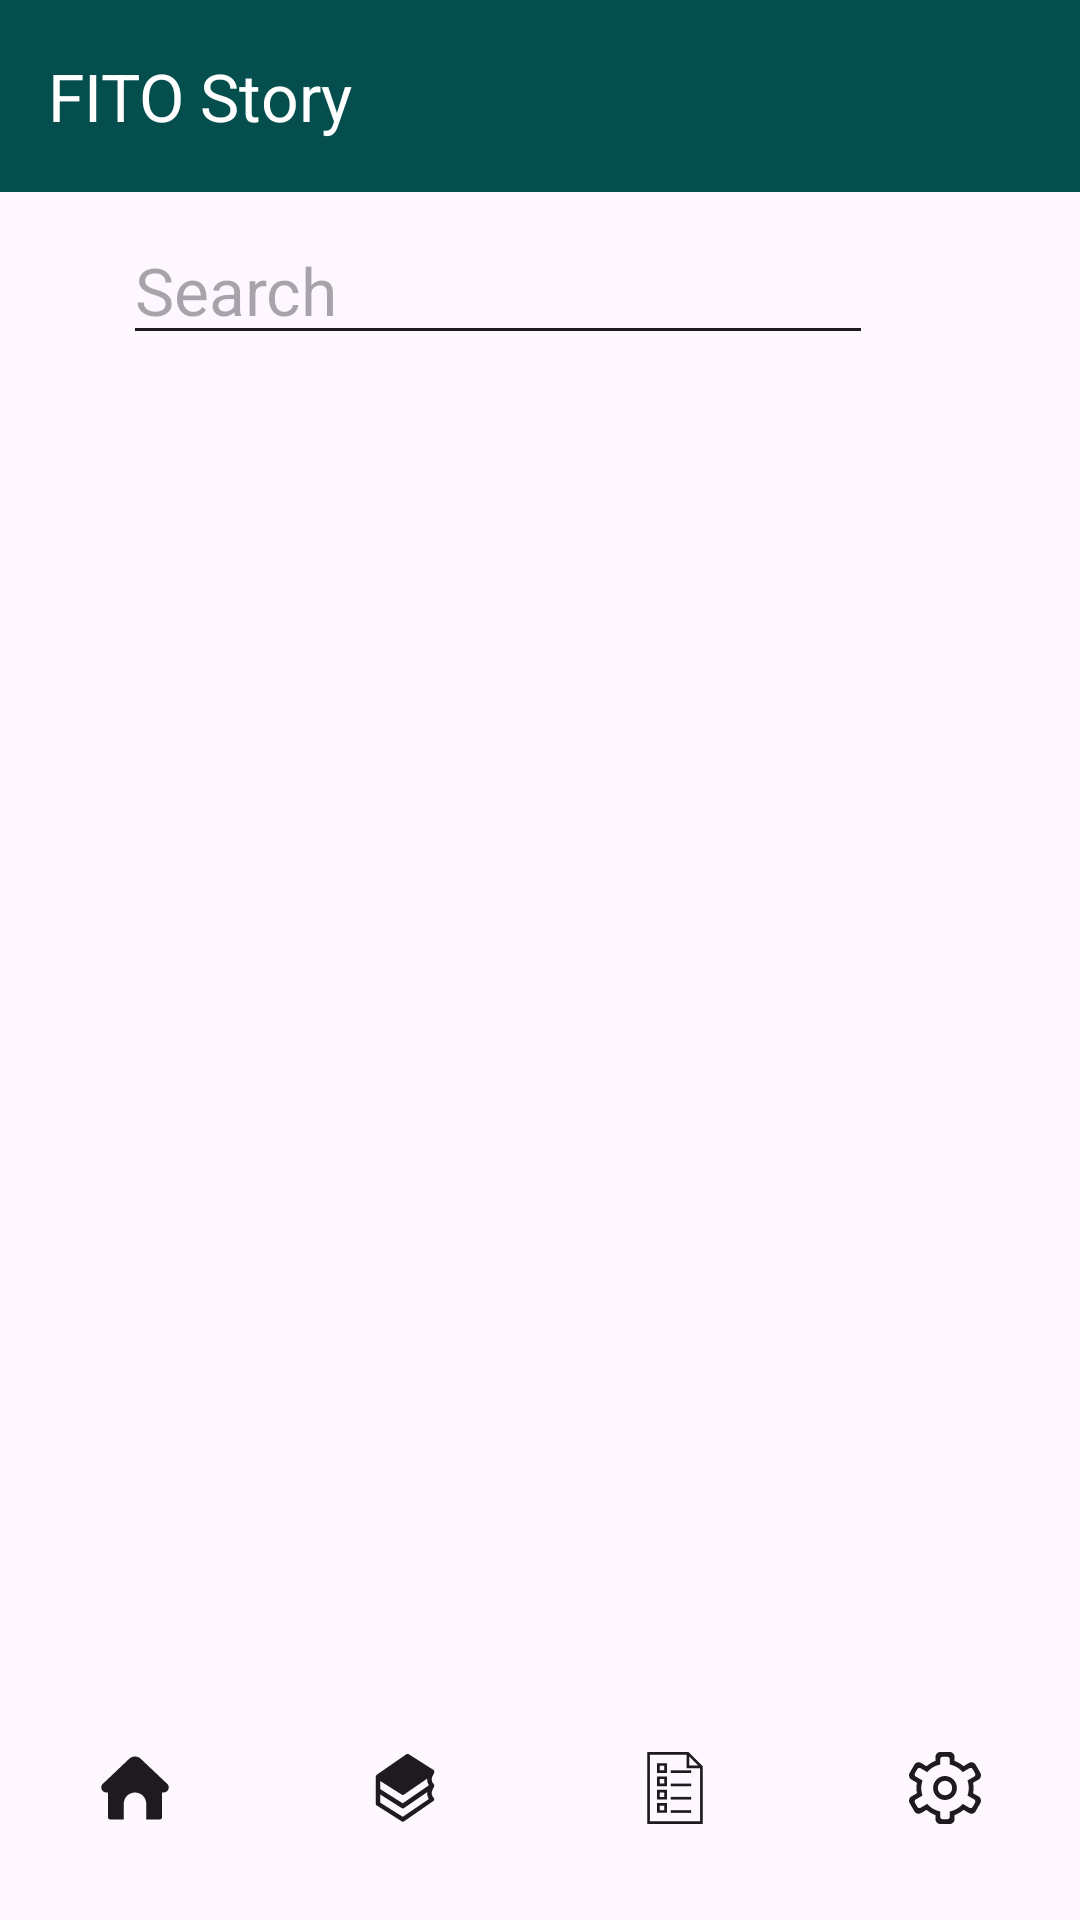

Where to tap for icons on this 1080 × 1920 app screen, as point (x, y):
home: point (135, 1788)
library: point (405, 1788)
quiz: point (675, 1788)
settings: point (945, 1788)
